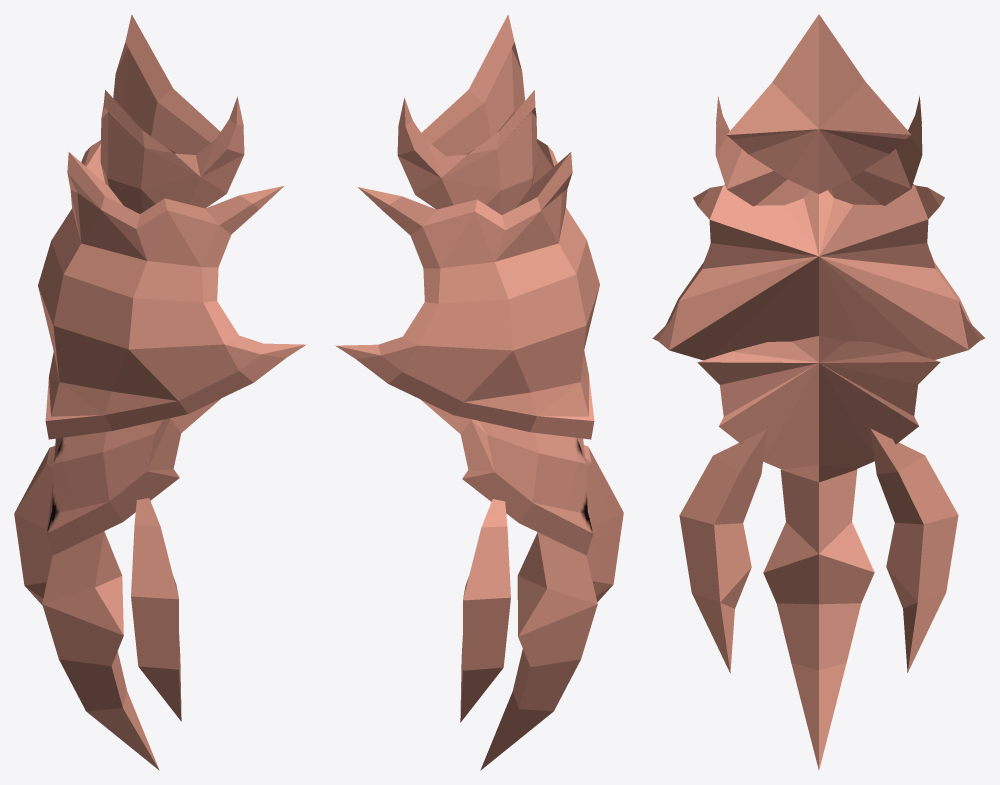
The model's file is weapon_Monk_101.FBX.
3 renders of one model, left to right at view 1: azimuth 30°, elevation 25°; view 2: azimuth 150°, elevation 25°; view 3: azimuth 270°, elevation 25°, orthographic. The views are drawn at different scales.
Parts seen in each view (by area): view 1: weapon_Monk_101; view 2: weapon_Monk_101; view 3: weapon_Monk_101.
Boxes of the visible parts, x1,y1,x2,y2 form: weapon_Monk_101: (14, 14, 305, 770); weapon_Monk_101: (335, 14, 623, 770); weapon_Monk_101: (652, 14, 985, 769).
Size of the model in its own units: 0.1868 by 0.7617 by 0.3093.
